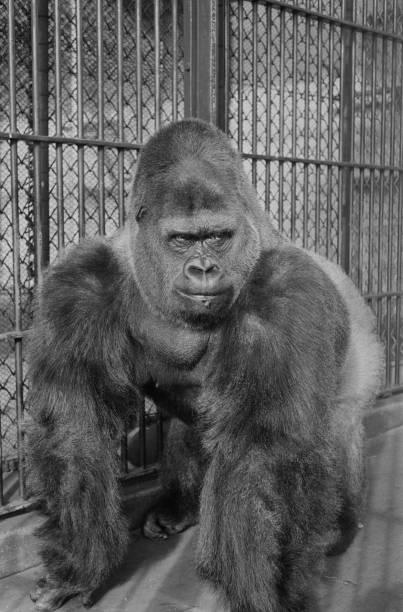gorille_Autres: (0, 76, 402, 612)
